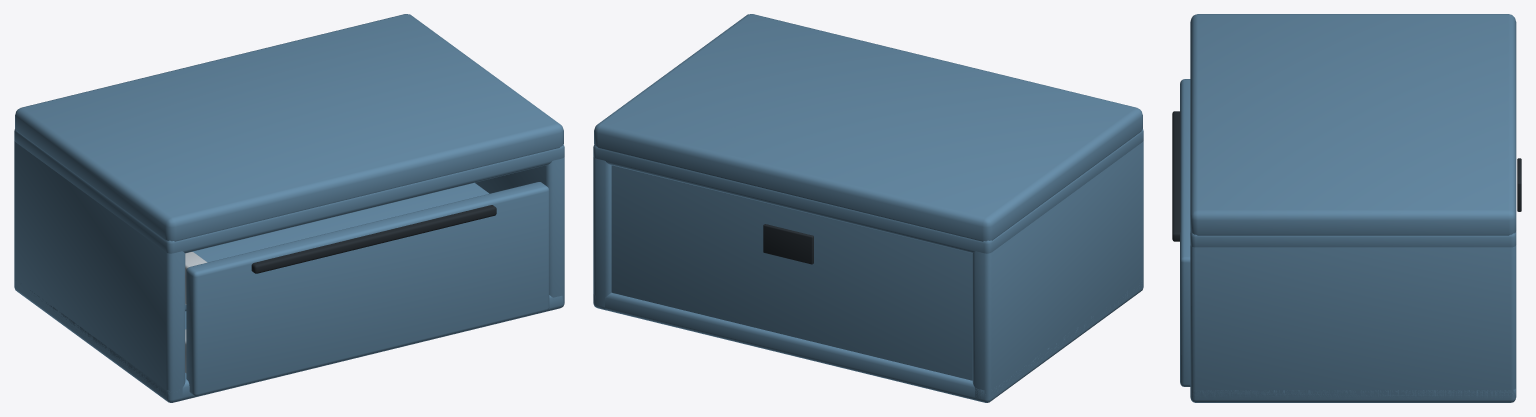
File: floating-nightstand.glb
3 renders of one model, left to right at view 1: azimuth 30°, elevation 25°; view 2: azimuth 150°, elevation 25°; view 3: azimuth 270°, elevation 25°, orthographic. The views are drawn at different scales.
Visible parts, largest first — view 1: catalog_surface_RealismUV, catalog_surface_UVMap; view 2: catalog_surface_RealismUV, catalog_surface_UVMap; view 3: catalog_surface_RealismUV, catalog_surface_UVMap.
Part boxes in pixels (x1,y1,x2,y2): catalog_surface_RealismUV: [14, 14, 564, 402]; catalog_surface_UVMap: [251, 205, 496, 273]; catalog_surface_RealismUV: [593, 14, 1143, 402]; catalog_surface_UVMap: [763, 224, 813, 264]; catalog_surface_RealismUV: [1180, 14, 1516, 402]; catalog_surface_UVMap: [1172, 111, 1521, 241].
Bounding box in the file's own units: 0.52 × 0.23 × 0.38.
